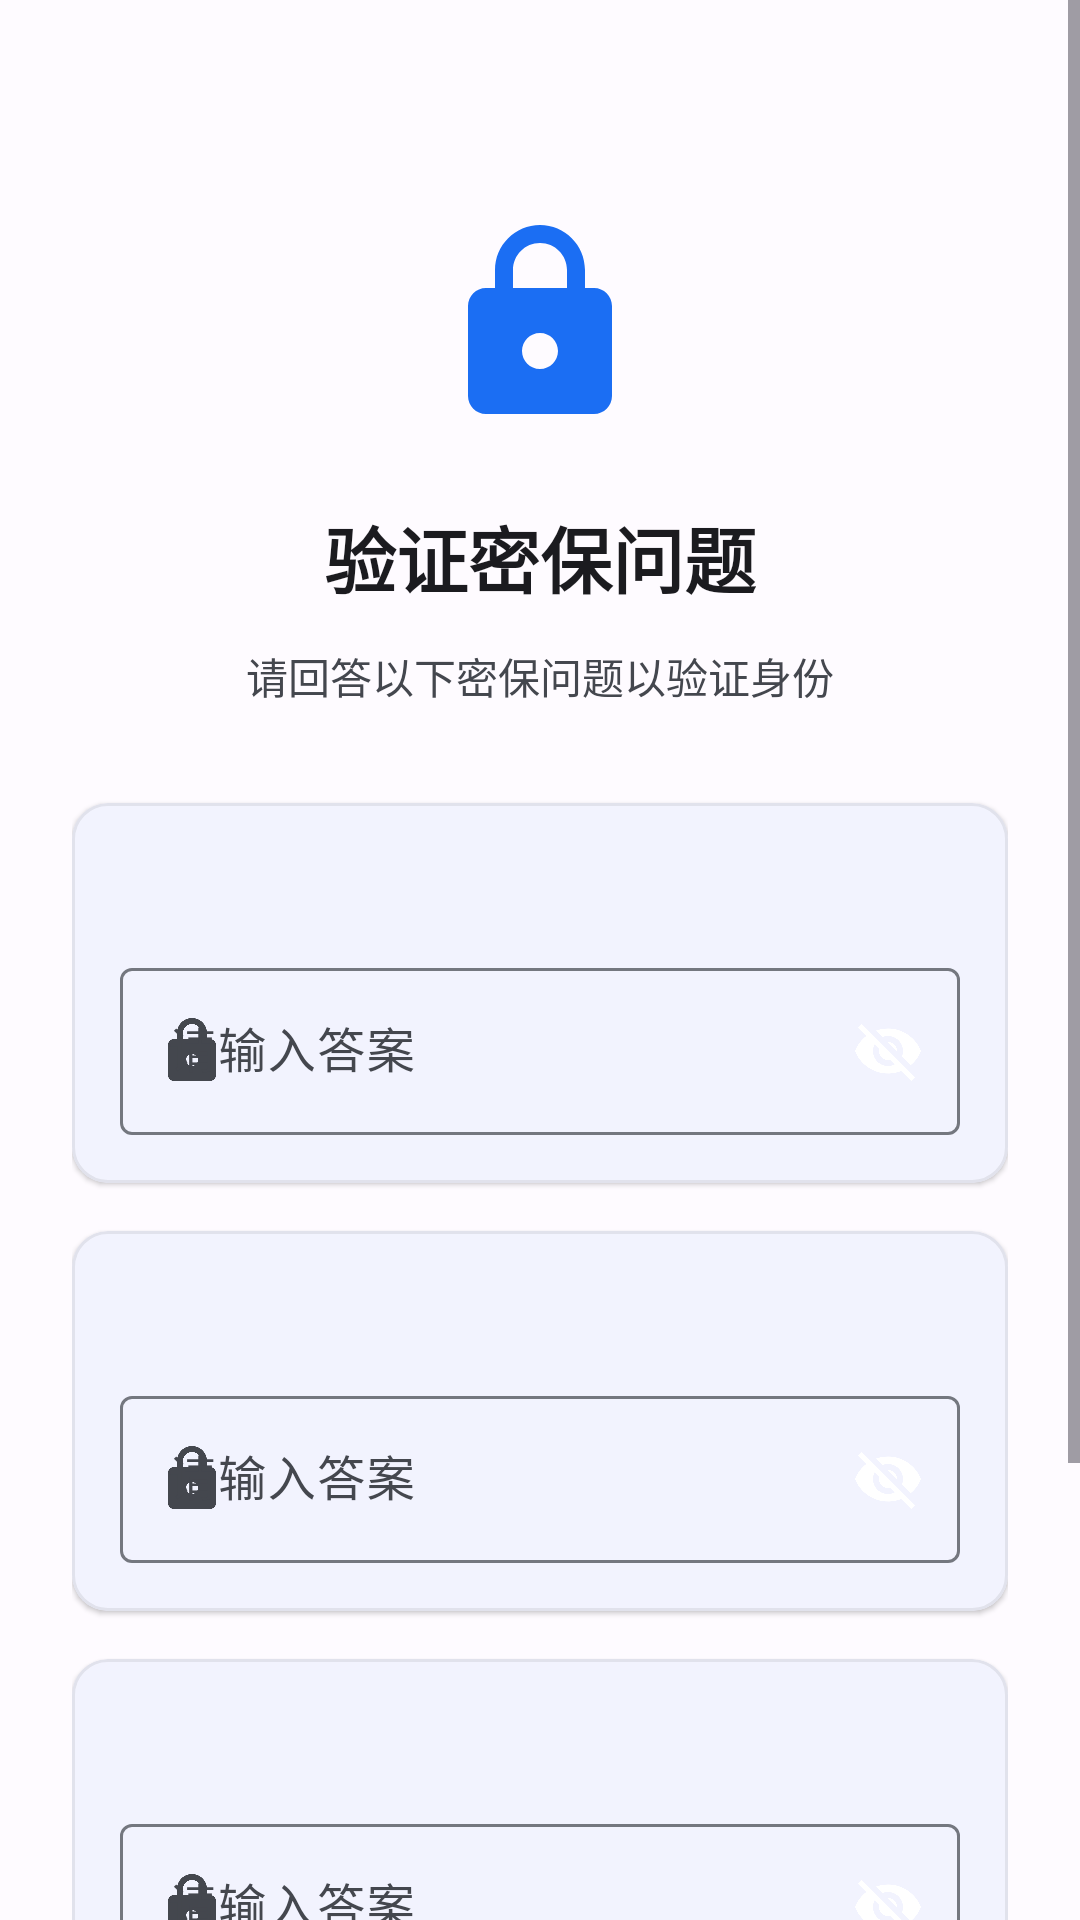

Screen size 1080x1920. Icon name, then its box in pixels as [x1, y1, x2, y2]:
lock: [468, 225, 612, 414]
